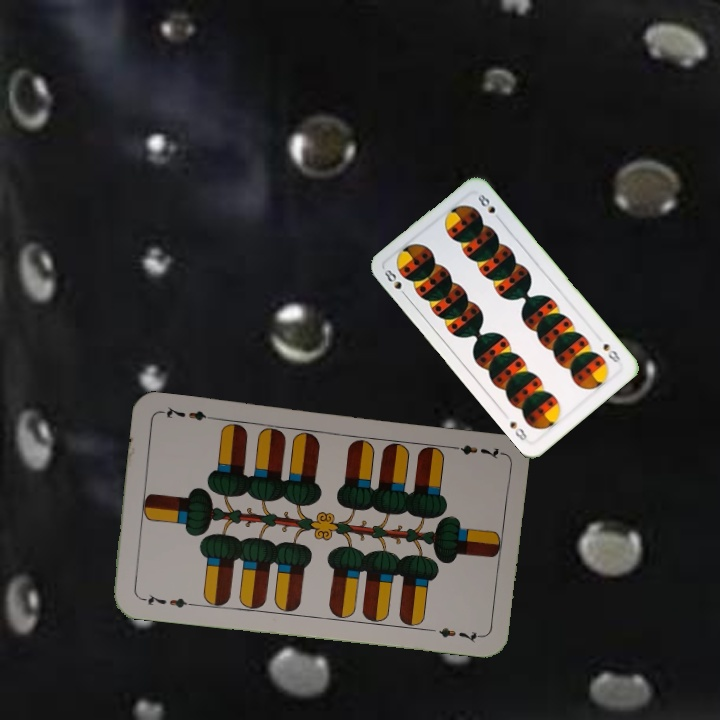E7: (136, 590, 195, 611), (445, 441, 504, 462)
S8: (380, 265, 410, 300), (599, 339, 623, 365)
